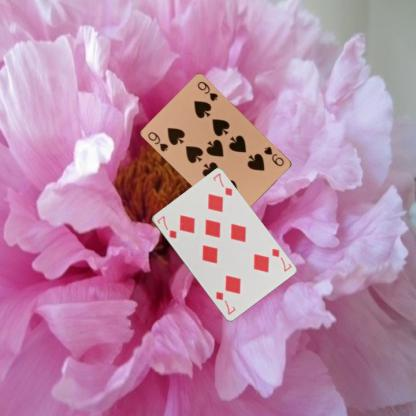7d: (154, 213, 178, 240), (269, 245, 292, 272)
9s: (145, 129, 170, 153), (262, 144, 285, 167)
